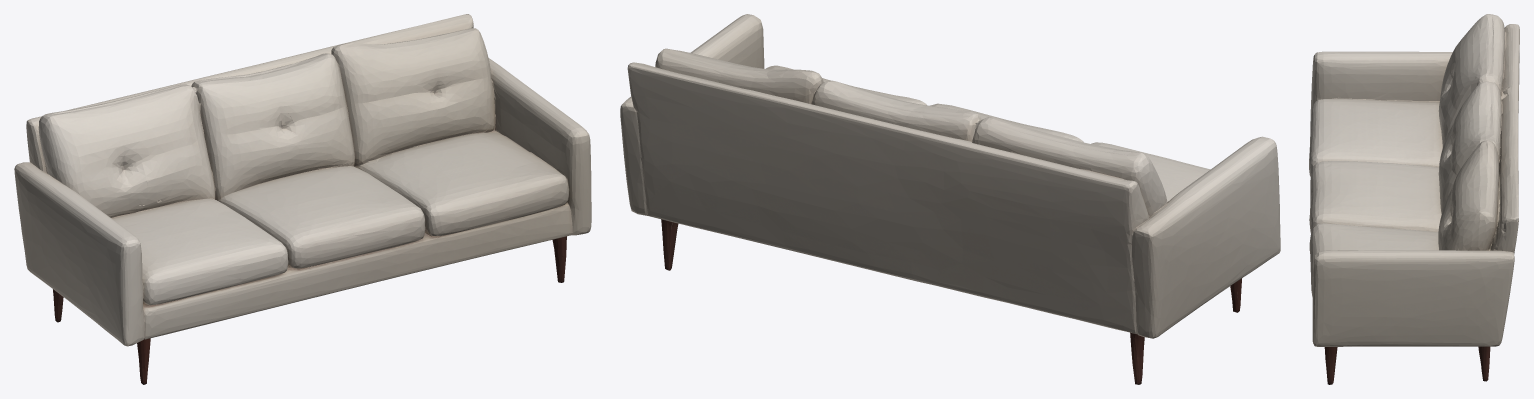
Rendered from 3 seater sofa.glb.
3 views of the same model, side by side, from view 1: azimuth 30°, elevation 25°; view 2: azimuth 150°, elevation 25°; view 3: azimuth 270°, elevation 25° (orthographic). The views are drawn at different scales.
Parts seen in each view (by area): view 1: world; view 2: world; view 3: world.
Boxes of the visible parts, x1,y1,x2,y2 form: world: (14, 14, 591, 384); world: (620, 14, 1280, 384); world: (1309, 14, 1519, 384).
Bounding box in the file's own units: 0.9994 × 0.4141 × 0.4283.
Materials: 1 (1 with a texture image).
